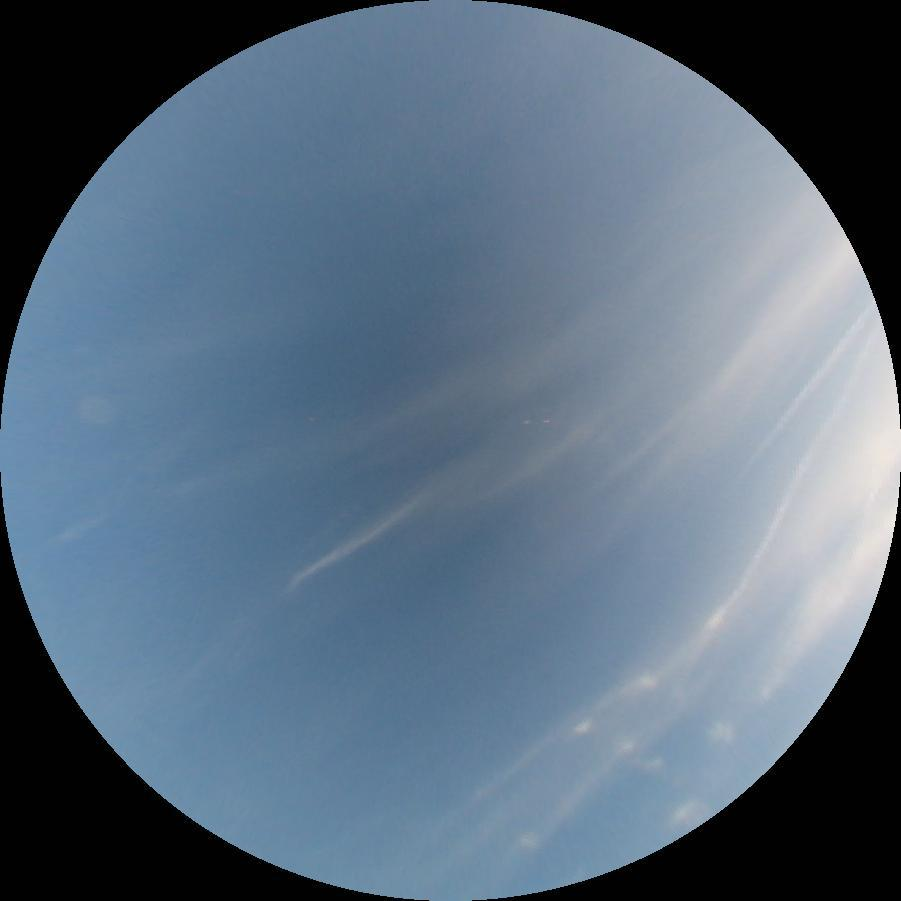contrail old: (723, 302, 877, 486)
